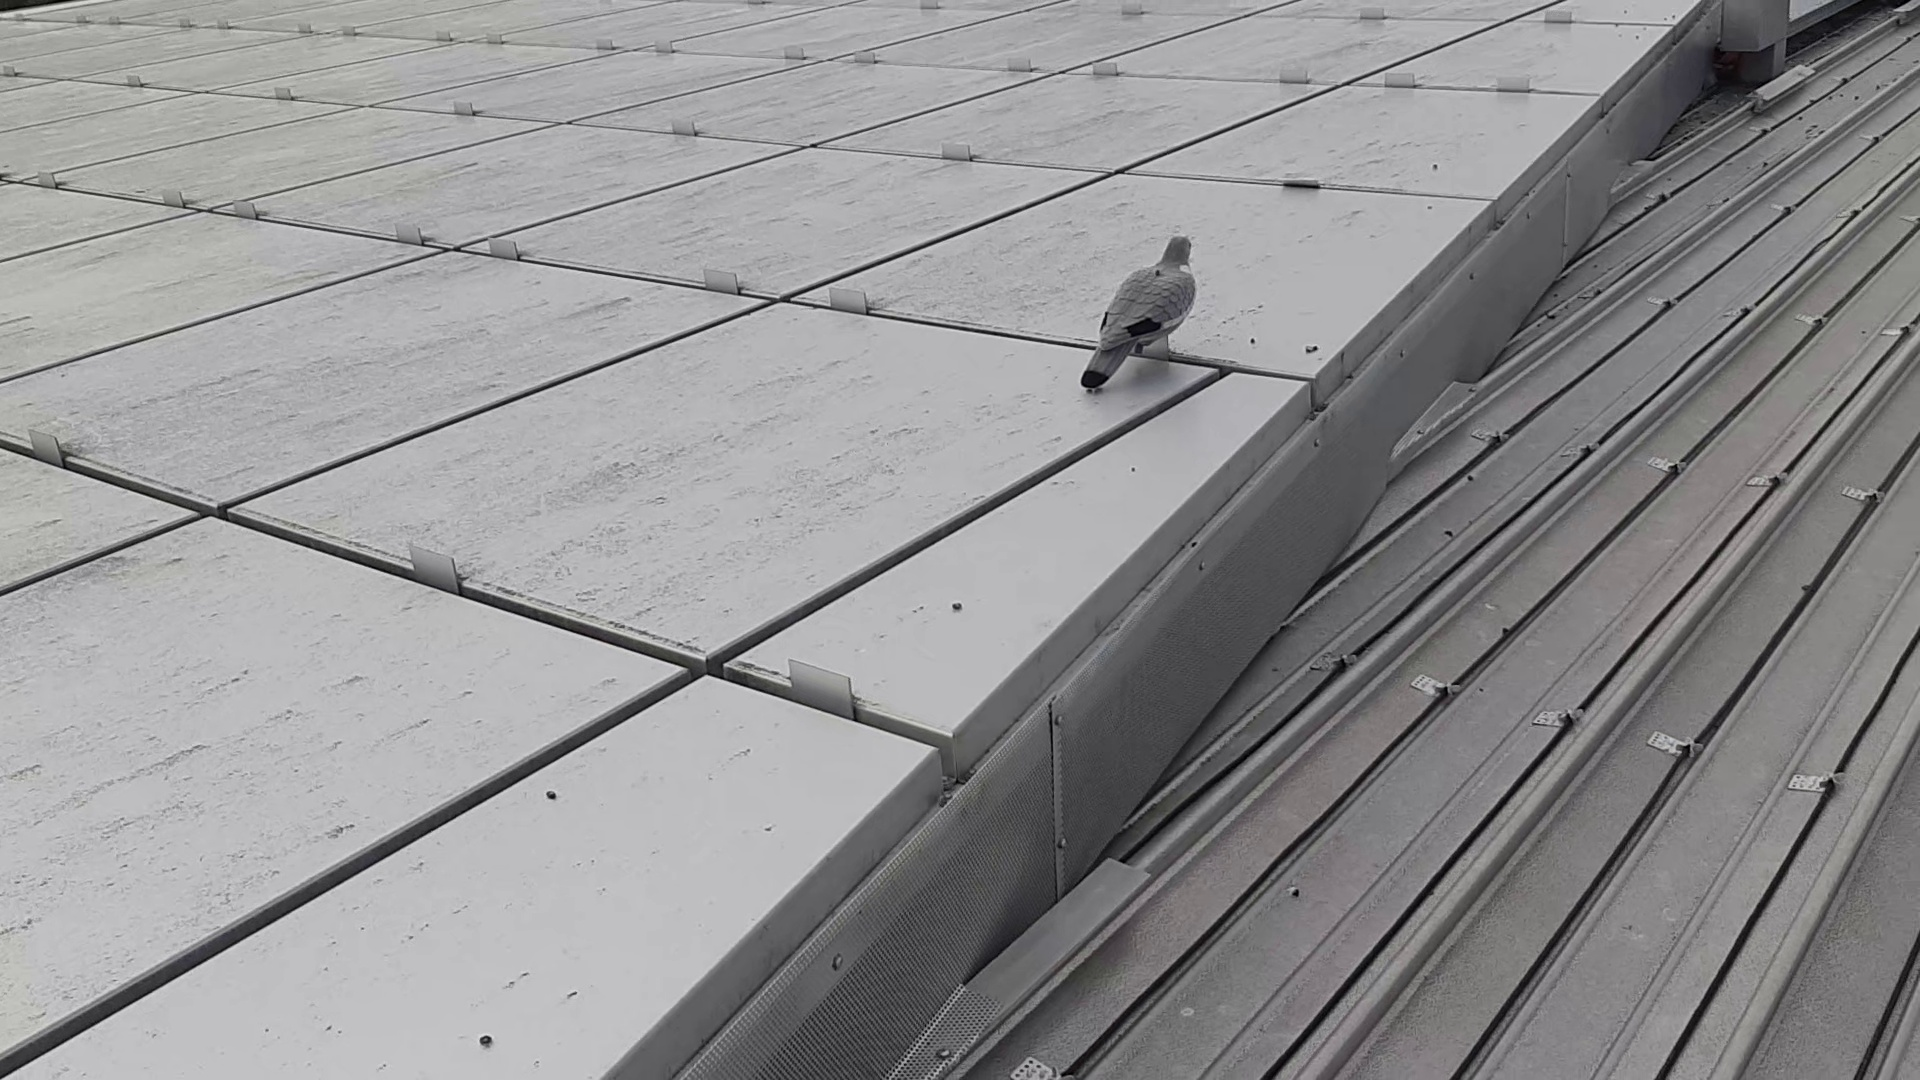Pigeon: (1075, 222, 1203, 414)
